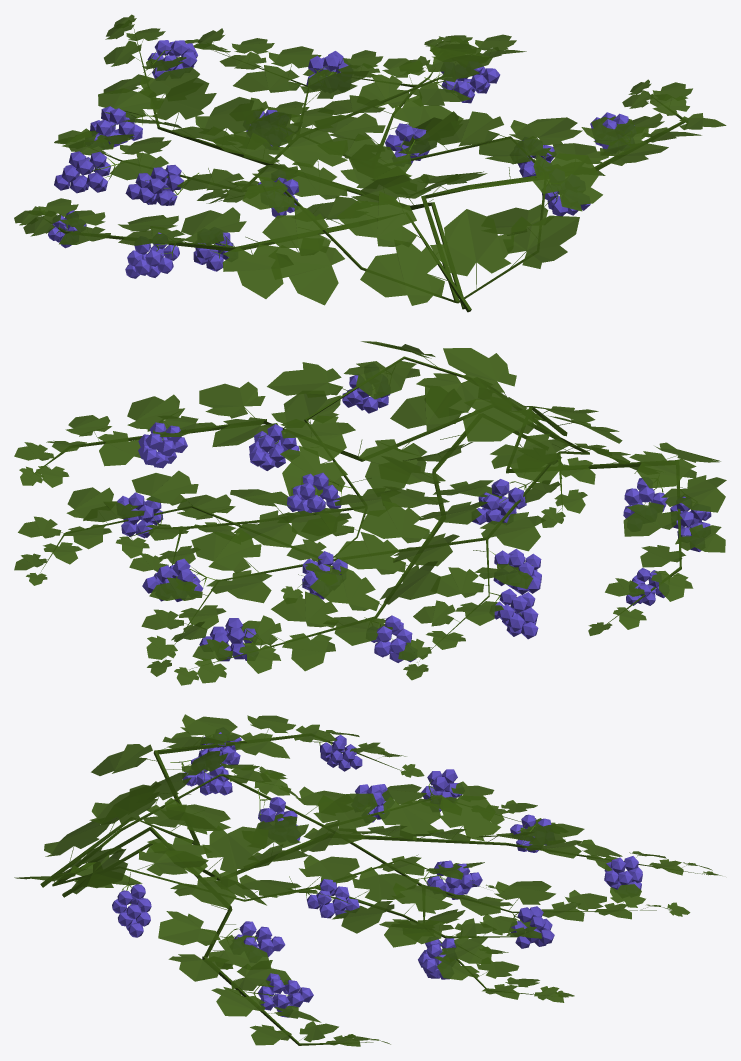
Rendered from vine.glb.
3 renders of one model, top to bottom at view 1: azimuth 30°, elevation 25°; view 2: azimuth 150°, elevation 25°; view 3: azimuth 270°, elevation 25°, orthographic. The views are drawn at different scales.
Visible parts, largest first — view 1: Object_2, Object_3, Object_4, Object_5; view 2: Object_2, Object_3, Object_4; view 3: Object_2, Object_3, Object_4, Object_5.
Part boxes in pixels (bbox=[...]): Object_2: bbox=[14, 14, 726, 312]; Object_3: bbox=[54, 40, 590, 278]; Object_4: bbox=[48, 112, 634, 248]; Object_5: bbox=[55, 50, 559, 259]; Object_2: bbox=[14, 341, 726, 685]; Object_3: bbox=[117, 375, 711, 662]; Object_4: bbox=[138, 422, 665, 605]; Object_2: bbox=[14, 714, 721, 1046]; Object_3: bbox=[112, 732, 642, 979]; Object_4: bbox=[258, 734, 362, 1017]; Object_5: bbox=[121, 741, 542, 1006].
Bounding box in the file's own units: 2.5 × 0.3753 × 2.49.
